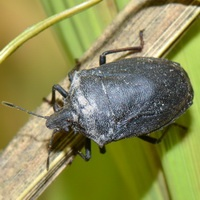insect: (37, 18, 199, 199)
